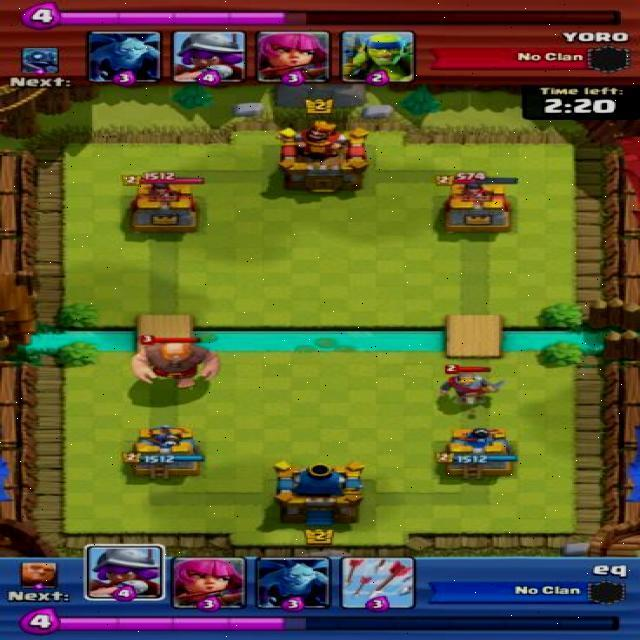EGiant: (132, 339, 217, 388)
EKingTower: (277, 127, 365, 188)
EKnight: (443, 364, 497, 406)
EnemyPrincessTower: (442, 175, 513, 236), (129, 177, 197, 229)
OwnKingTower: (278, 463, 364, 527)
OwnPrincessTower: (127, 424, 203, 478), (443, 427, 512, 476)
